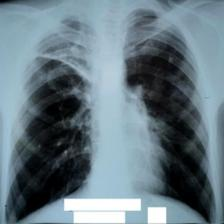tuberculosis: (1, 6, 218, 224)
